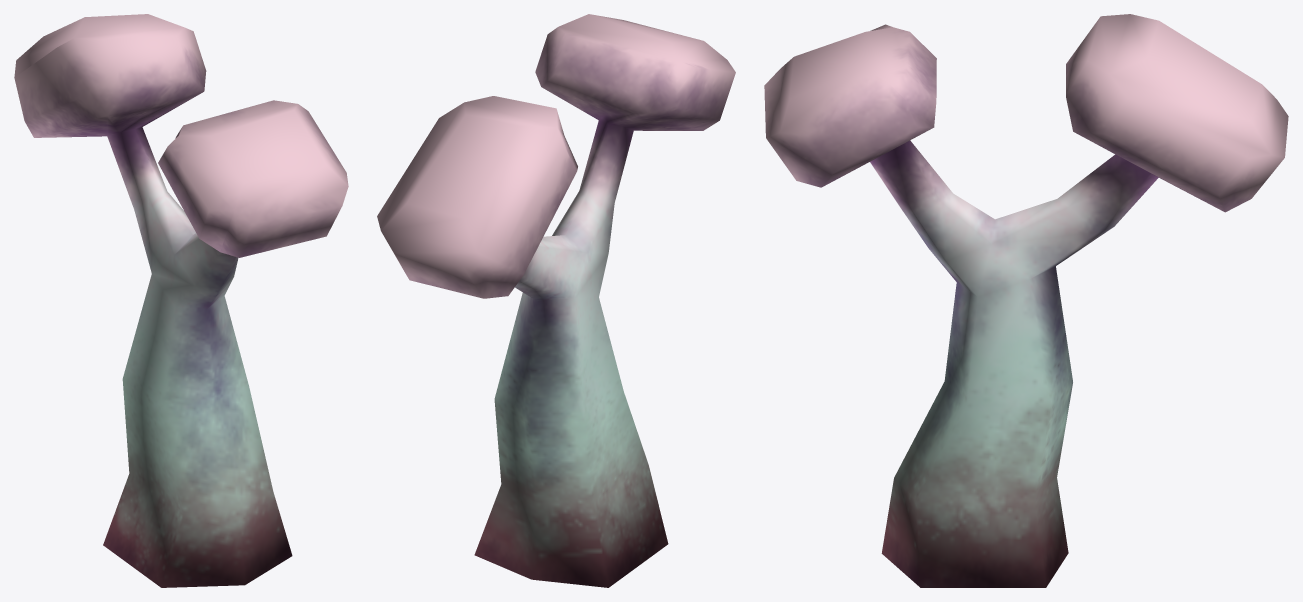
File: tree.fbx
3 renders of one model, left to right at view 1: azimuth 30°, elevation 25°; view 2: azimuth 150°, elevation 25°; view 3: azimuth 270°, elevation 25°, orthographic. The views are drawn at different scales.
Parts seen in each view (by area): view 1: tree; view 2: tree; view 3: tree.
Part boxes in pixels (box(x1,y1,x2,y2)): tree: box(14, 14, 348, 587); tree: box(377, 14, 735, 587); tree: box(764, 14, 1288, 587).
Size of the model in its own units: 424 by 1366 by 1256.
Materials: 1 (1 with a texture image).
